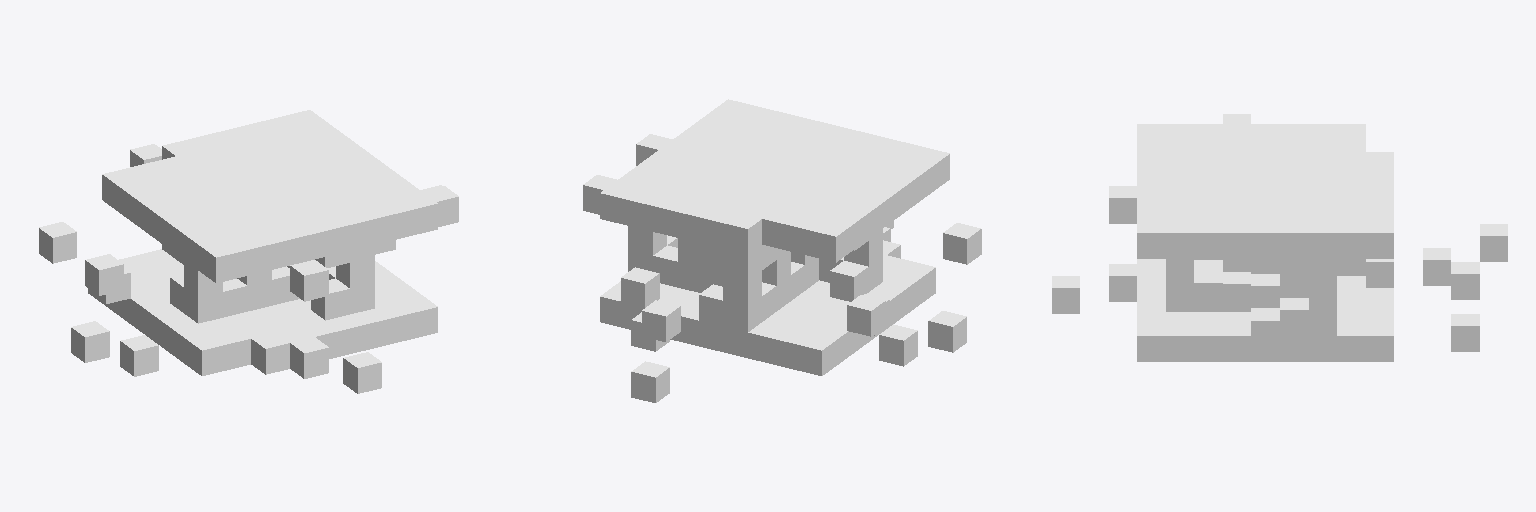
The model's file is ml_tensordisplay_green.obj.
3 views of the same model, side by side, from view 1: azimuth 30°, elevation 25°; view 2: azimuth 150°, elevation 25°; view 3: azimuth 270°, elevation 25° (orthographic).
Visible parts, largest first — view 1: ml_tensorcapture; view 2: ml_tensorcapture; view 3: ml_tensorcapture.
Boxes of the visible parts, box(x1,y1,x2,y2) form: ml_tensorcapture: box(39, 110, 458, 393); ml_tensorcapture: box(583, 99, 981, 402); ml_tensorcapture: box(1052, 114, 1507, 361).
Size of the model in its own units: 0.75 by 0.3 by 0.8.